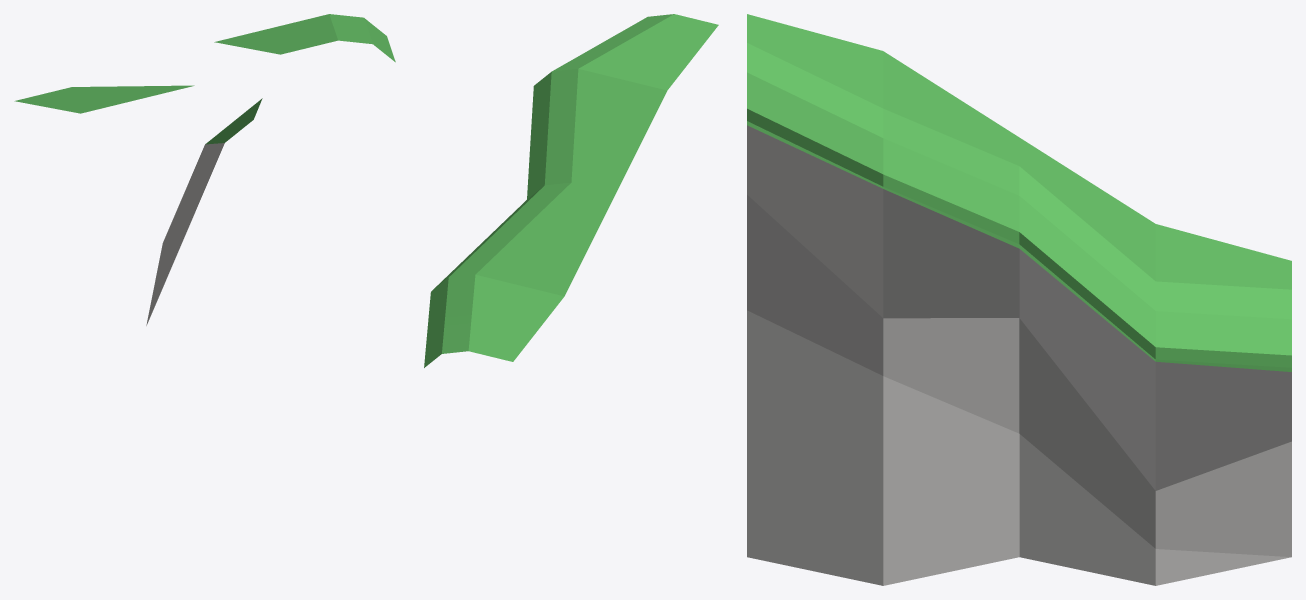
The model's file is Cliff_Terrain_Hill_Sharp_Top.glb.
3 views of the same model, side by side, from view 1: azimuth 30°, elevation 25°; view 2: azimuth 150°, elevation 25°; view 3: azimuth 270°, elevation 25° (orthographic). The views are drawn at different scales.
Parts seen in each view (by area): view 1: Cliff_Terrain_Hill_Sharp_Top; view 2: Cliff_Terrain_Hill_Sharp_Top; view 3: Cliff_Terrain_Hill_Sharp_Top.
Boxes of the visible parts, x1,y1,x2,y2 form: Cliff_Terrain_Hill_Sharp_Top: [14, 14, 395, 325]; Cliff_Terrain_Hill_Sharp_Top: [424, 14, 718, 367]; Cliff_Terrain_Hill_Sharp_Top: [747, 14, 1291, 585].
Size of the model in its own units: 0.75 by 2.2 by 2.
